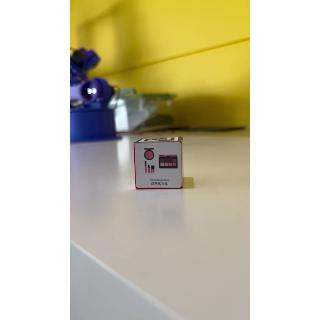Expired_Cosmetic: (135, 144, 185, 191)
